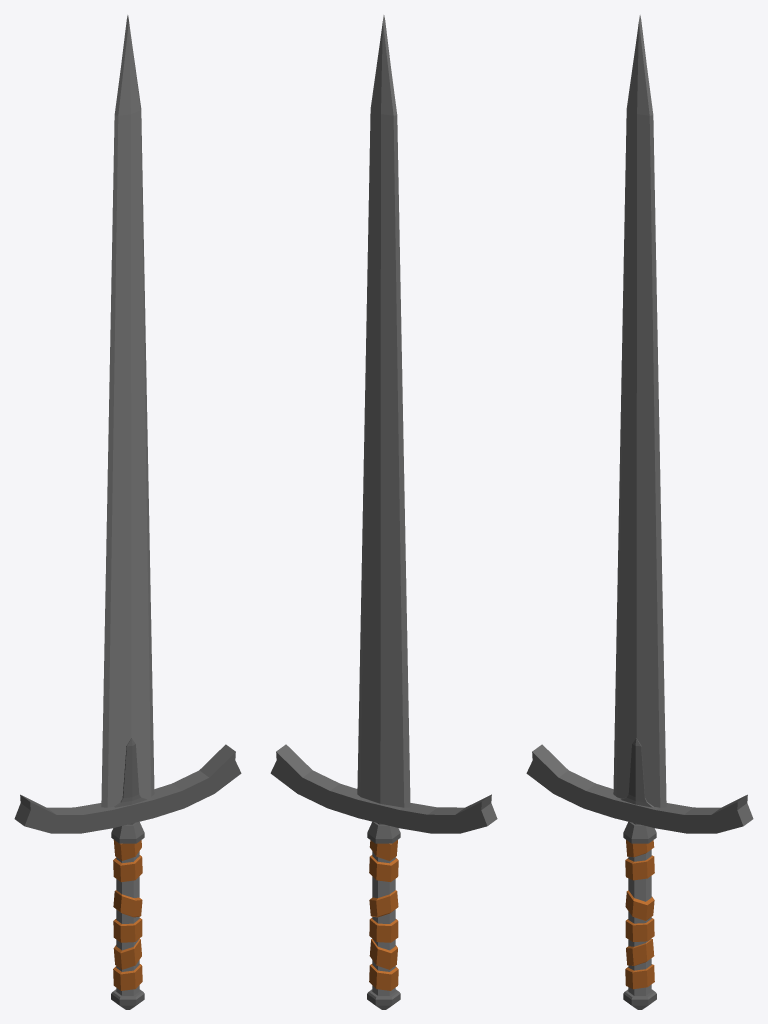
The model's file is sword_4.fbx.
3 views of the same model, side by side, from view 1: azimuth 30°, elevation 25°; view 2: azimuth 150°, elevation 25°; view 3: azimuth 330°, elevation 25° (orthographic).
Visible parts, largest first — view 1: Sword; view 2: Sword; view 3: Sword.
Boxes of the visible parts, bbox=[...] form: Sword: bbox=[14, 15, 241, 1009]; Sword: bbox=[270, 15, 497, 1009]; Sword: bbox=[526, 15, 753, 1009].
Size of the model in its own units: 59.3 by 260 by 7.94.
